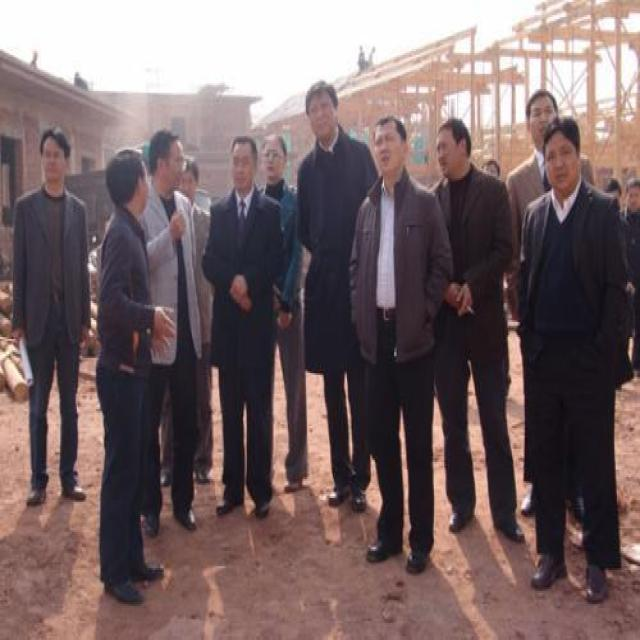no-helmet: (540, 112, 586, 199), (369, 106, 411, 189), (104, 148, 148, 225), (145, 128, 187, 200), (434, 115, 475, 183), (35, 125, 73, 197), (304, 74, 340, 146), (225, 129, 260, 199), (524, 84, 558, 152), (262, 133, 294, 191), (180, 154, 200, 210)
